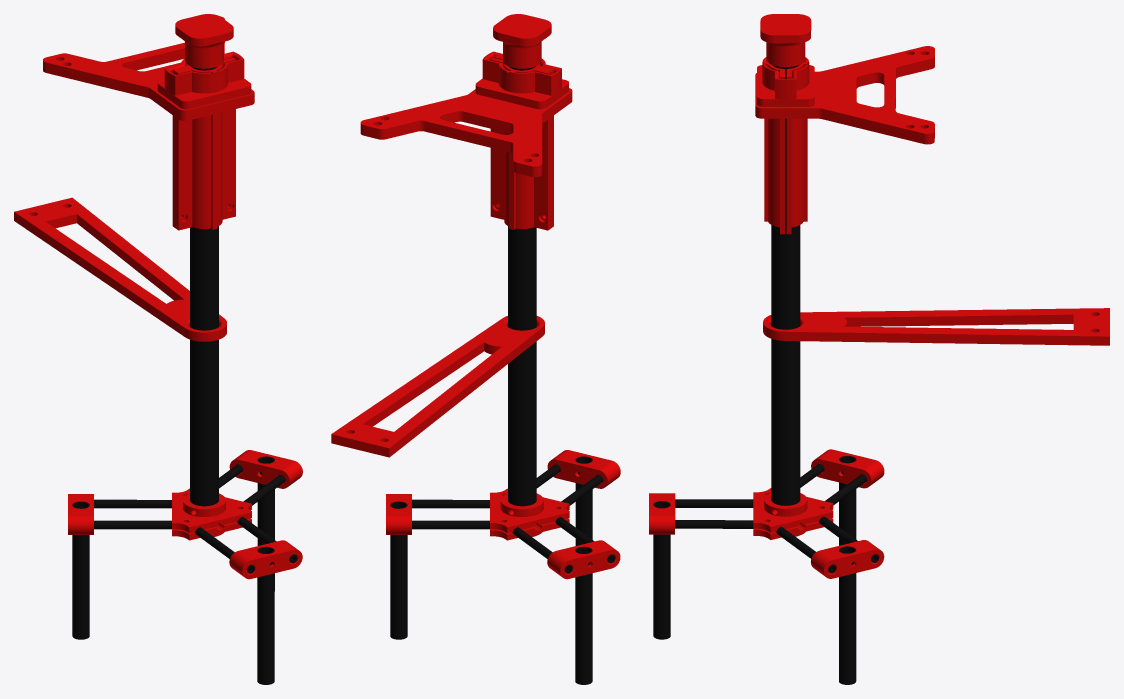
File: manipulator_fork .dae
3 renders of one model, left to right at view 1: azimuth 30°, elevation 25°; view 2: azimuth 150°, elevation 25°; view 3: azimuth 270°, elevation 25°, orthographic.
Visible parts, largest first — view 1: Shape_IndexedFaceSet; view 2: Shape_IndexedFaceSet; view 3: Shape_IndexedFaceSet.
Part boxes in pixels (x1,y1,x2,y2): Shape_IndexedFaceSet: [14, 14, 302, 684]; Shape_IndexedFaceSet: [331, 14, 620, 684]; Shape_IndexedFaceSet: [649, 14, 1109, 684].
Bounding box in the file's own units: 0.1876 × 0.3183 × 0.4659.
